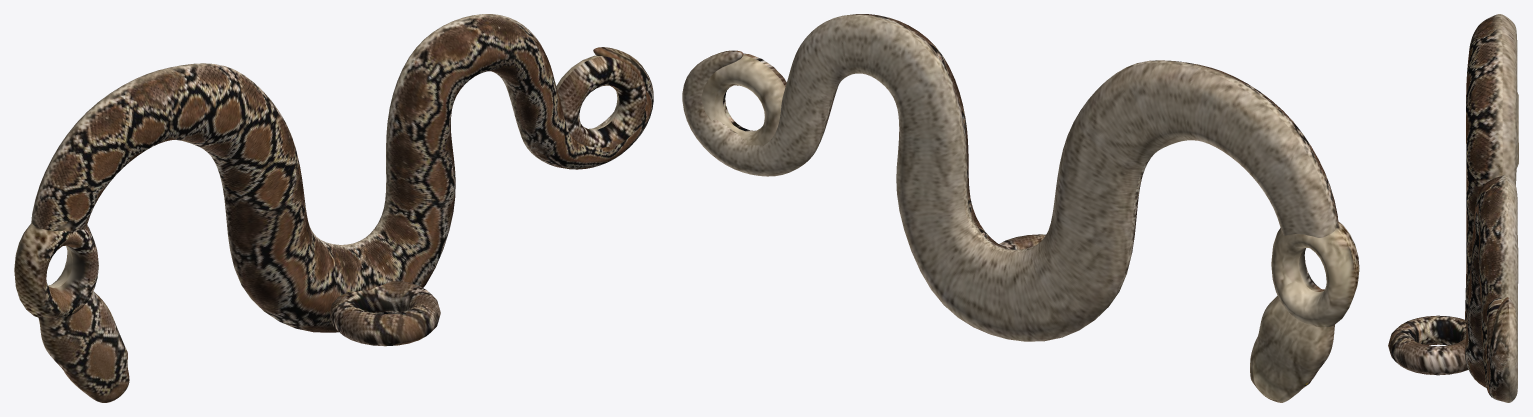
File: 21945_Snake_V1.obj
3 views of the same model, side by side, from view 1: azimuth 30°, elevation 25°; view 2: azimuth 150°, elevation 25°; view 3: azimuth 270°, elevation 25° (orthographic). The views are drawn at different scales.
Visible parts, largest first — view 1: 21945_Snake_V1; view 2: 21945_Snake_V1; view 3: 21945_Snake_V1.
Boxes of the visible parts, x1=… form: 21945_Snake_V1: x1=14, y1=14, x2=653, y2=402; 21945_Snake_V1: x1=682, y1=14, x2=1359, y2=402; 21945_Snake_V1: x1=1388, y1=14, x2=1518, y2=402.
Bounding box in the file's own units: 6.23 × 2.89 × 1.23.
1 material, 1 textured.
